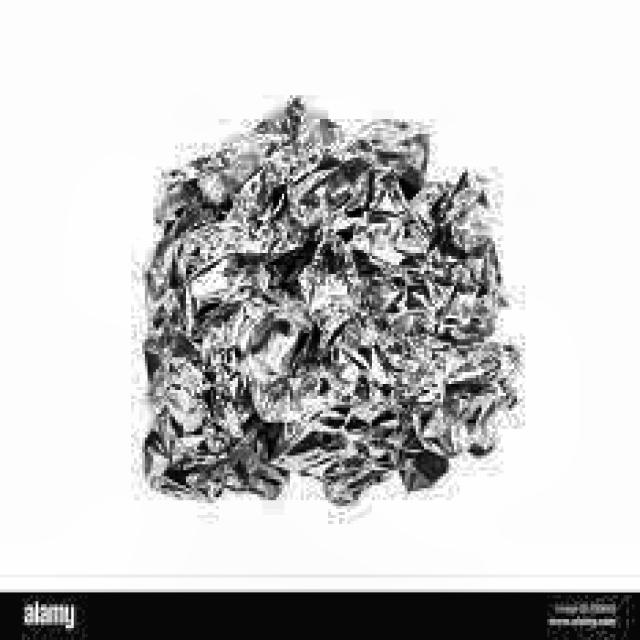Foil: (126, 96, 526, 524)
